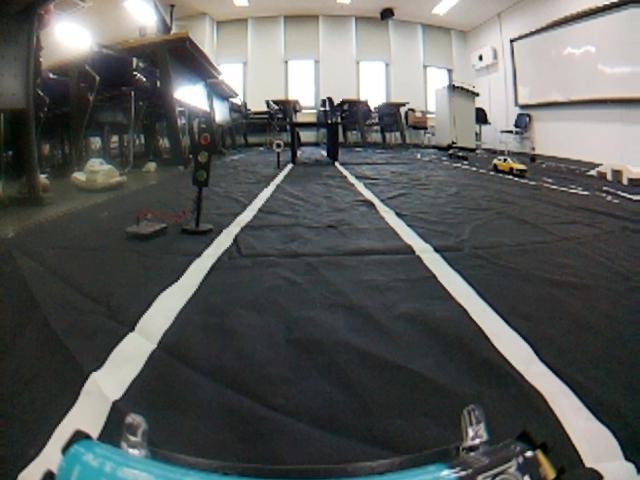green_light: (189, 120, 215, 191)
straight: (38, 240, 640, 469)
